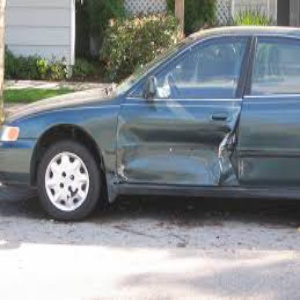door: (112, 127, 275, 187)
